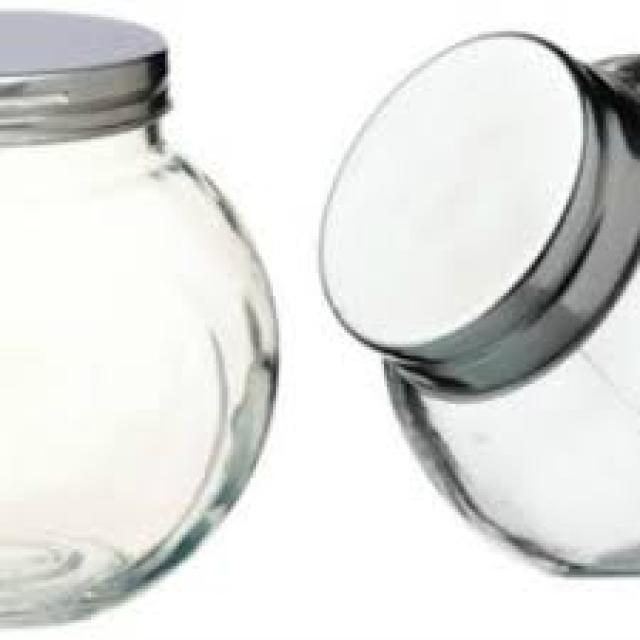Anorganik: (0, 119, 276, 623), (381, 51, 637, 572), (322, 29, 637, 401), (0, 9, 168, 142)
